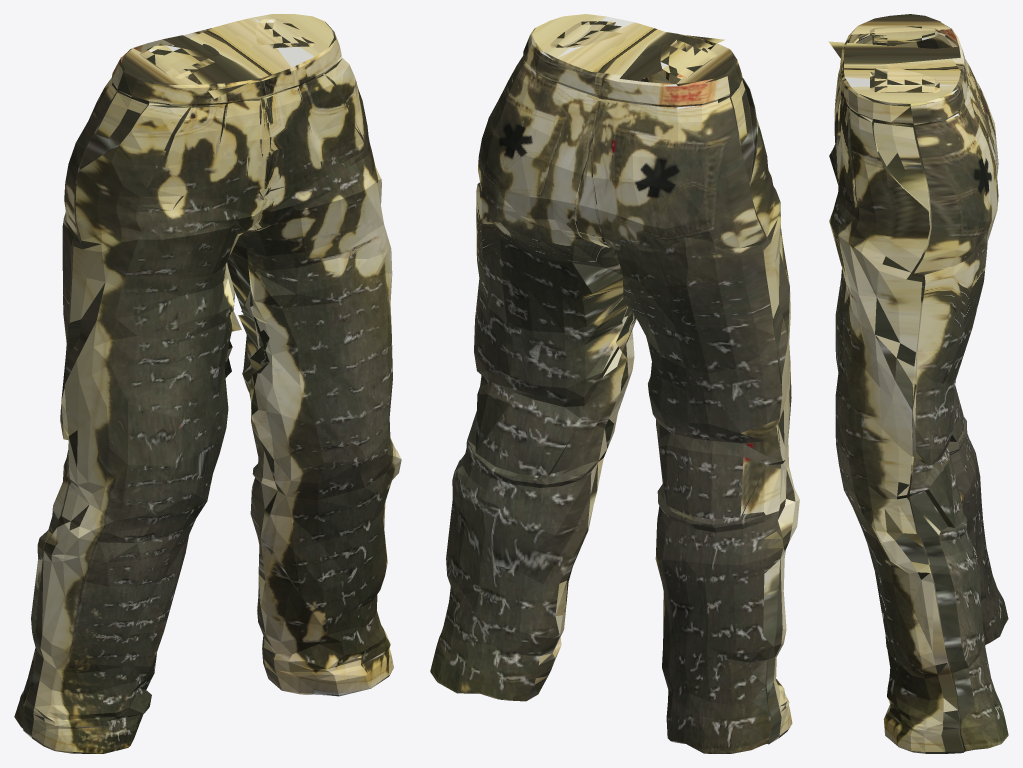
File: jeans9.obj
3 renders of one model, left to right at view 1: azimuth 30°, elevation 25°; view 2: azimuth 150°, elevation 25°; view 3: azimuth 270°, elevation 25°, orthographic. The views are drawn at different scales.
Parts seen in each view (by area): view 1: Object60; view 2: Object60; view 3: Object60.
Boxes of the visible parts, box(x1,y1,x2,y2) form: Object60: box(14, 14, 401, 753); Object60: box(430, 14, 799, 753); Object60: box(828, 14, 1008, 753).
Size of the model in its own units: 6.06 by 11.33 by 2.92.
Materials: 2 (1 with a texture image).
